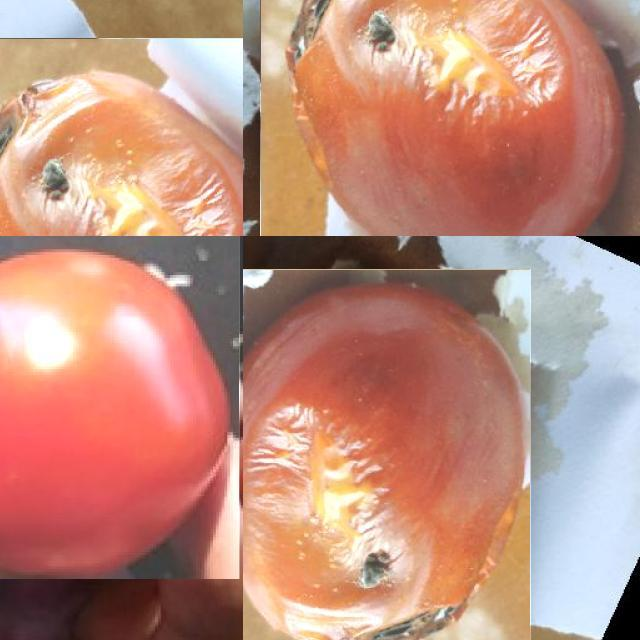Fresh Tomato: (0, 236, 240, 578)
Rotten Tomato: (243, 268, 531, 640), (259, 0, 640, 236), (0, 38, 243, 236)
